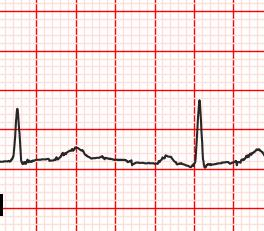LVH: (50, 142, 93, 164)
